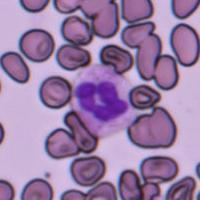N: (69, 64, 133, 138)
